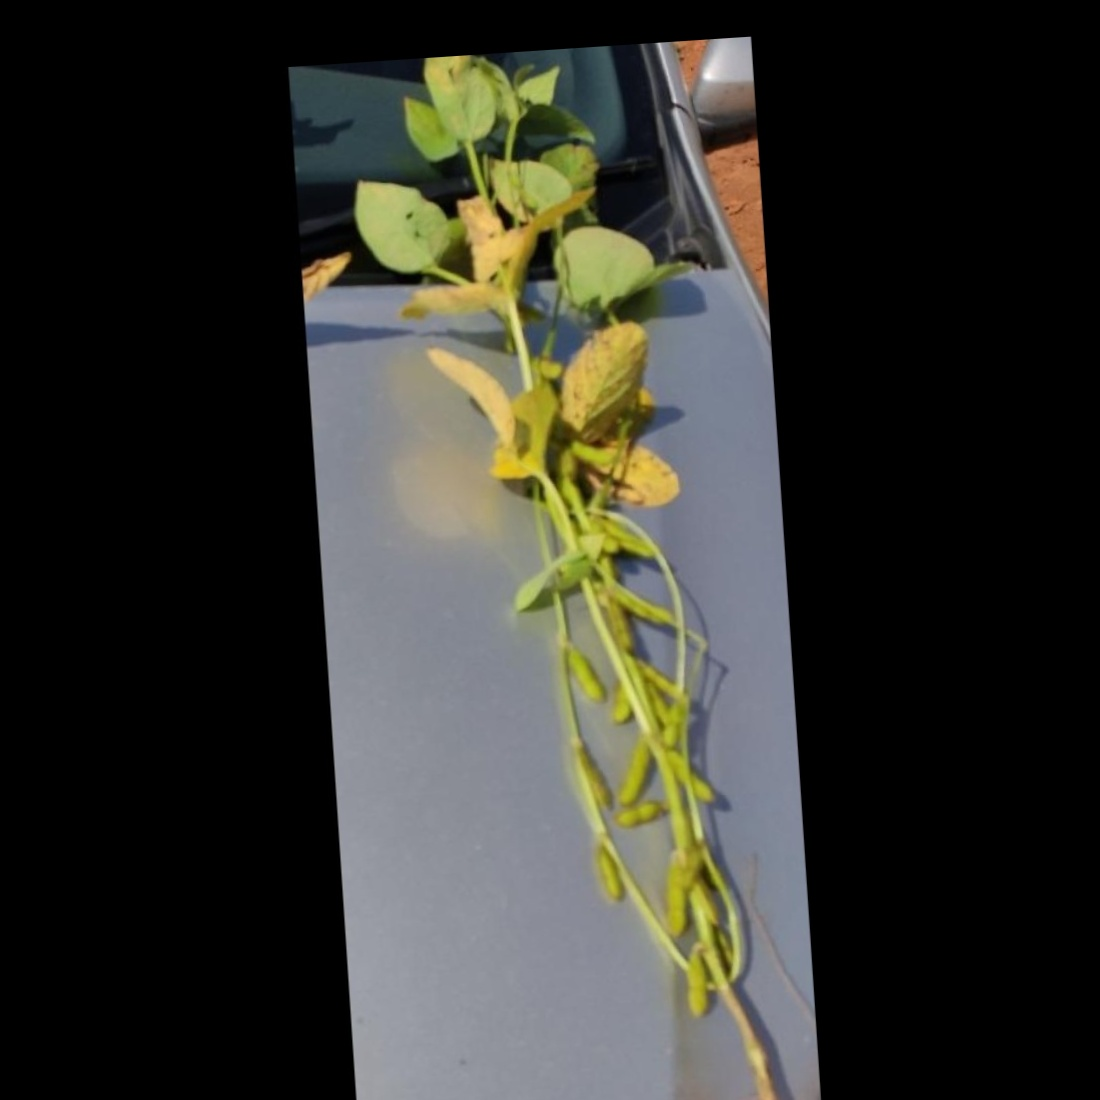pod: (618, 651, 695, 711), (667, 744, 735, 807), (560, 639, 612, 707), (612, 738, 658, 815), (658, 851, 692, 947), (680, 942, 713, 1032), (592, 839, 625, 908), (609, 800, 669, 833)
soy: (368, 59, 825, 1100)
